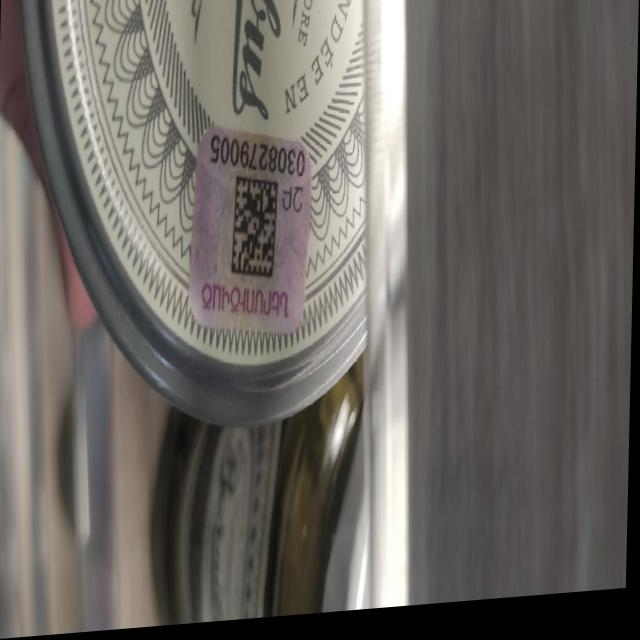datamatrix: (230, 176, 283, 291)
